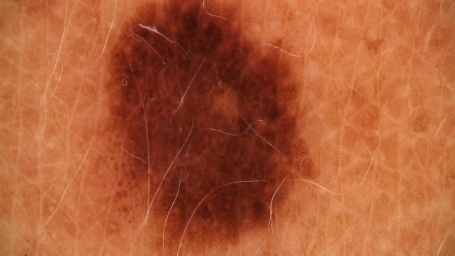melanoma: (108, 1, 320, 250)
